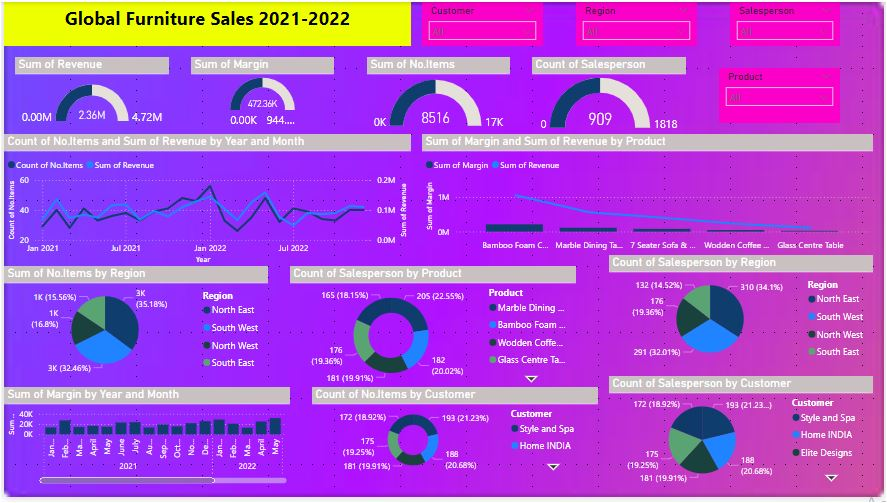

The page's visual inventory and layout, read from the dashboard file:
{"tool":"powerbi","page":{"name":"Page 1","canvas":[1280,720],"ordinal":0},"visuals":[{"type":"textbox","box":[0,0,720,80],"z":0},{"type":"clusteredColumnChart","fields":{"Y":["Sum(Raw_Data.Margin)"],"Category":["Raw_Data.Date.Variation.Date Hierarchy.Year","Raw_Data.Date.Variation.Date Hierarchy.Month"]},"box":[0,544,512,176],"z":1000},{"type":"donutChart","fields":{"Category":["Raw_Data.Customer"],"Y":["CountNonNull(Raw_Data.No.Items)"]},"box":[528,544,368,176],"z":2000},{"type":"pieChart","fields":{"Category":["Raw_Data.Region"],"Y":["Sum(Raw_Data.No.Items)"]},"box":[0,368,384,160],"z":3000},{"type":"pieChart","fields":{"Category":["Raw_Data.Customer"],"Y":["CountNonNull(Raw_Data.Salesperson)"]},"box":[912,544,368,176],"z":4000},{"type":"pieChart","fields":{"Category":["Raw_Data.Region"],"Y":["CountNonNull(Raw_Data.Salesperson)"]},"box":[400,368,384,160],"z":5000},{"type":"lineClusteredColumnComboChart","fields":{"Category":["Raw_Data.Product"],"Y":["Sum(Raw_Data.Margin)"],"Y2":["Sum(Raw_Data.Revenue)"]},"box":[768,208,496,160],"z":6000},{"type":"donutChart","fields":{"Category":["Raw_Data.Product"],"Y":["CountNonNull(Raw_Data.Salesperson)"]},"box":[816,368,448,160],"z":7000},{"type":"lineChart","fields":{"Category":["Raw_Data.Date.Variation.Date Hierarchy.Year","Raw_Data.Date.Variation.Date Hierarchy.Month"],"Y":["CountNonNull(Raw_Data.No.Items)"],"Y2":["Sum(Raw_Data.Revenue)"]},"box":[288,208,464,160],"z":8000},{"type":"slicer","fields":{"Values":["Raw_Data.Customer"]},"box":[0,224,288,112],"z":9000},{"type":"slicer","fields":{"Values":["Raw_Data.Region"]},"box":[0,96,288,112],"z":10000},{"type":"slicer","fields":{"Values":["Raw_Data.Product"]},"box":[736,0,240,96],"z":11000},{"type":"slicer","fields":{"Values":["Raw_Data.Salesperson"]},"box":[992,0,288,96],"z":12000},{"type":"gauge","fields":{"Y":["Sum(Raw_Data.Revenue)"]},"box":[288,96,224,96],"z":13000},{"type":"gauge","fields":{"Y":["Sum(Raw_Data.Margin)"]},"box":[528,96,208,96],"z":14000},{"type":"gauge","fields":{"Y":["CountNonNull(Raw_Data.Salesperson)"]},"box":[1024,96,256,96],"z":15000},{"type":"gauge","fields":{"Y":["Sum(Raw_Data.No.Items)"]},"box":[752,96,240,96],"z":16000}]}

Visuals, with their boxes in screenshot pixels (x1, y1, x2, y2), scaled from the page's 1280x720 canvas onto the 887x503 screenshot:
textbox: select_region(0, 0, 499, 56)
clusteredColumnChart - Sum(Raw_Data.Margin) x Raw_Data.Date.Variation.Date Hierarchy.Year: select_region(0, 380, 355, 502)
donutChart - Raw_Data.Customer x CountNonNull(Raw_Data.No.Items): select_region(366, 380, 621, 502)
pieChart - Raw_Data.Region x Sum(Raw_Data.No.Items): select_region(0, 257, 266, 369)
pieChart - Raw_Data.Customer x CountNonNull(Raw_Data.Salesperson): select_region(632, 380, 886, 502)
pieChart - Raw_Data.Region x CountNonNull(Raw_Data.Salesperson): select_region(277, 257, 543, 369)
lineClusteredColumnComboChart - Raw_Data.Product x Sum(Raw_Data.Margin): select_region(532, 145, 876, 257)
donutChart - Raw_Data.Product x CountNonNull(Raw_Data.Salesperson): select_region(565, 257, 876, 369)
lineChart - Raw_Data.Date.Variation.Date Hierarchy.Year x Raw_Data.Date.Variation.Date Hierarchy.Month: select_region(200, 145, 521, 257)
slicer - Raw_Data.Customer: select_region(0, 156, 200, 235)
slicer - Raw_Data.Region: select_region(0, 67, 200, 145)
slicer - Raw_Data.Product: select_region(510, 0, 676, 67)
slicer - Raw_Data.Salesperson: select_region(687, 0, 886, 67)
gauge - Sum(Raw_Data.Revenue): select_region(200, 67, 355, 134)
gauge - Sum(Raw_Data.Margin): select_region(366, 67, 510, 134)
gauge - CountNonNull(Raw_Data.Salesperson): select_region(710, 67, 886, 134)
gauge - Sum(Raw_Data.No.Items): select_region(521, 67, 687, 134)
